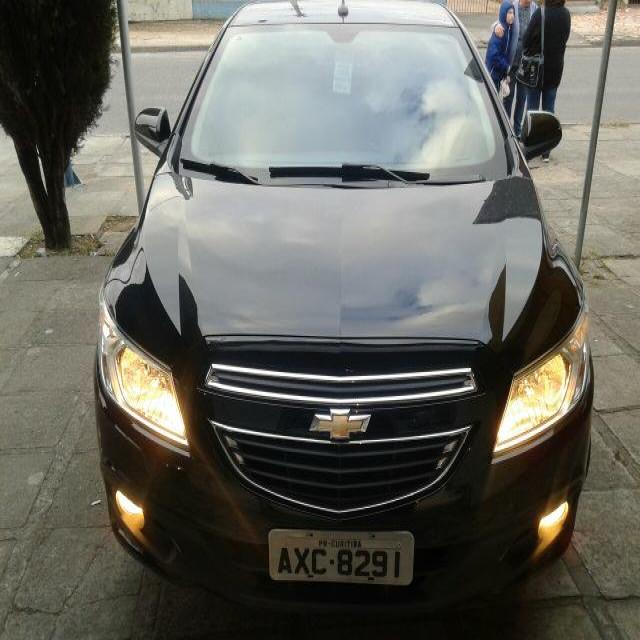Placa: (265, 523, 419, 591)
